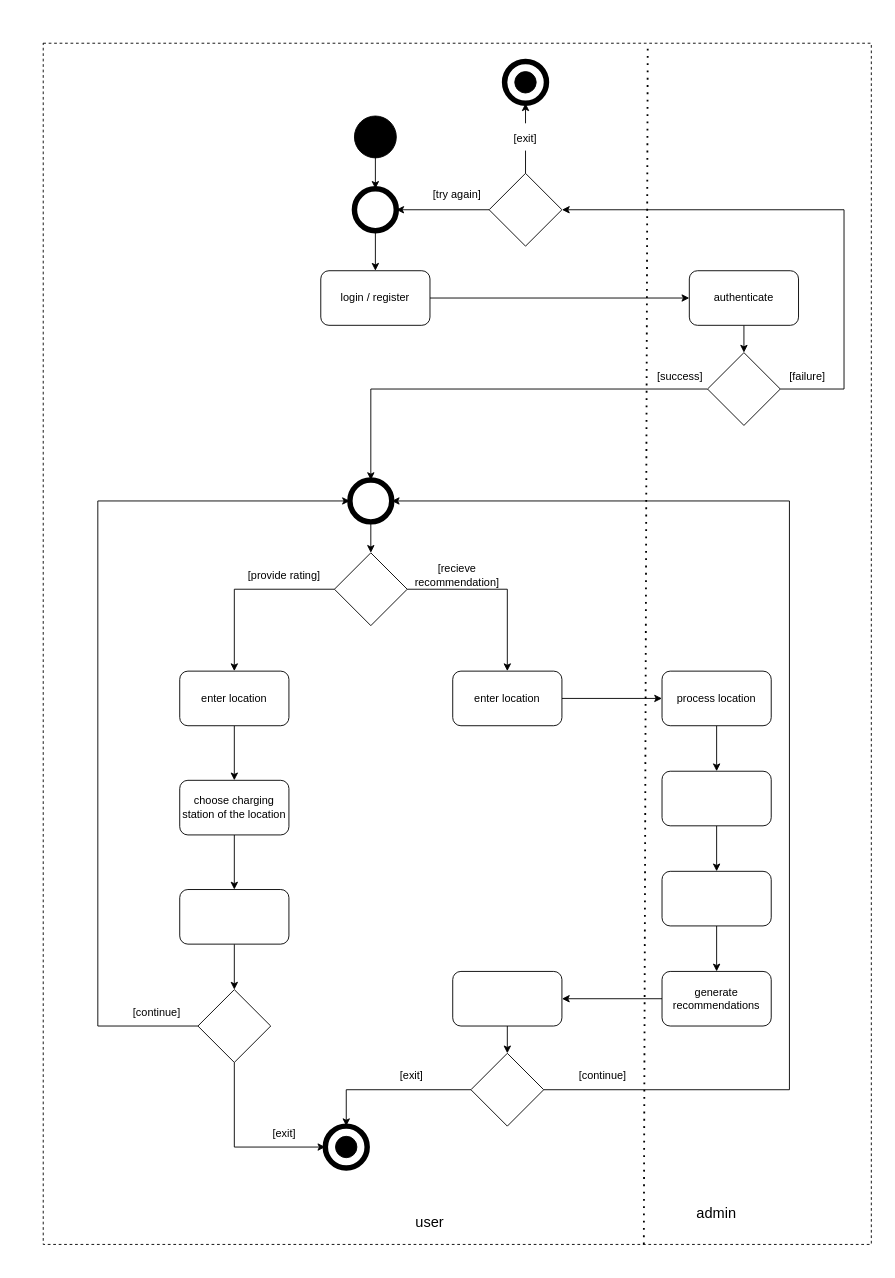
Image size: 895x1278. Some labels were removed from this diagram. Here are the shapes that lost their labels. From the top down, the box of each, then its label:
(661, 770, 771, 826): prune charging stations
(179, 889, 289, 944): rate the charging station
(661, 870, 771, 926): analyse the parameters
(452, 971, 562, 1026): receive recommendations
